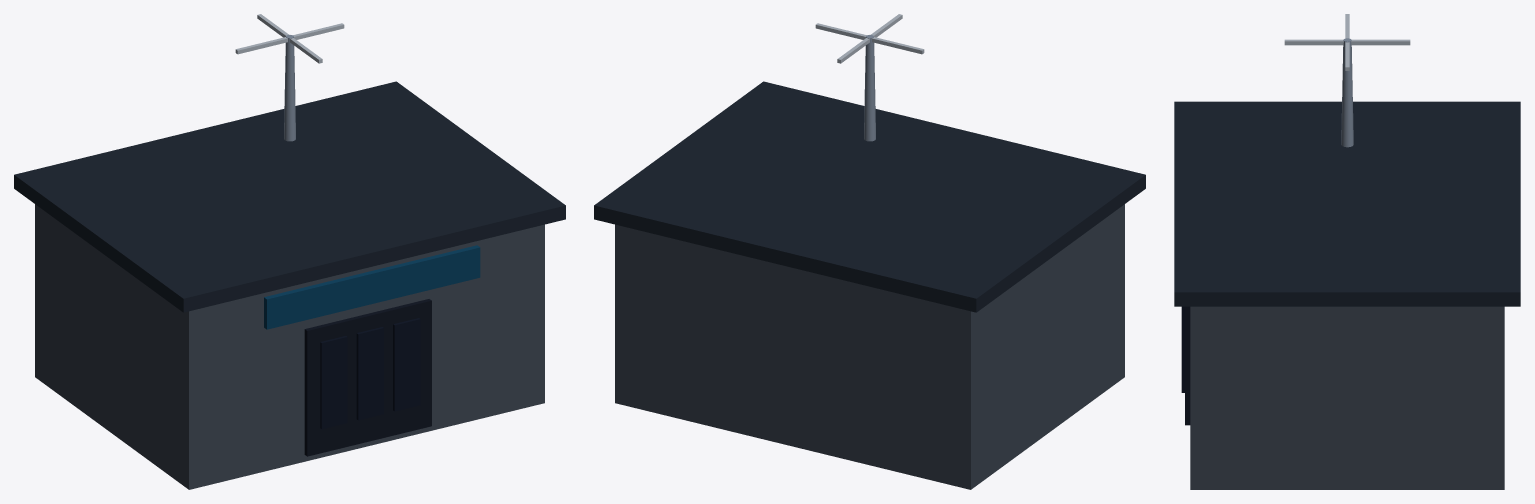
File: yard-telemetry-body.glb
The picture shows the model from 3 angles, left to right: view 1: azimuth 30°, elevation 25°; view 2: azimuth 150°, elevation 25°; view 3: azimuth 270°, elevation 25°; orthographic projection. The views are drawn at different scales.
Parts seen in each view (by area): view 1: Authored shadows true:false, Authored shadows true:true, Yard-telemetry-bodyBody; view 2: Authored shadows true:true, Authored shadows true:false, Yard-telemetry-bodyBody; view 3: Authored shadows true:false, Authored shadows true:true, Yard-telemetry-bodyBody.
Boxes of the visible parts, x1,y1,x2,y2 form: Authored shadows true:false: (14,81,565,312); Authored shadows true:true: (35,204,544,489); Yard-telemetry-bodyBody: (235,14,480,456); Authored shadows true:true: (615,204,1124,489); Authored shadows true:false: (594,81,1145,312); Yard-telemetry-bodyBody: (815,14,924,141); Authored shadows true:false: (1174,101,1520,306); Authored shadows true:true: (1190,306,1504,489); Yard-telemetry-bodyBody: (1181,14,1410,425).
Bounding box in the file's own units: 8.6 × 7.6 × 6.6.
